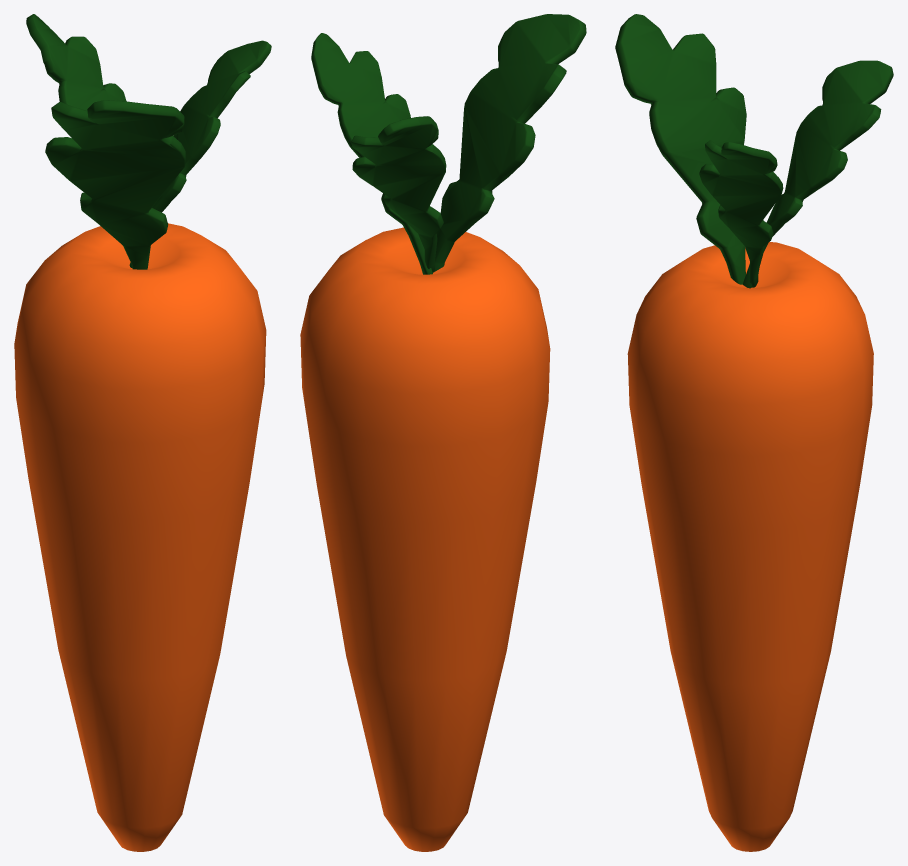
Rendered from carrot.fbx.
The picture shows the model from 3 angles, left to right: view 1: azimuth 30°, elevation 25°; view 2: azimuth 150°, elevation 25°; view 3: azimuth 270°, elevation 25°; orthographic projection. The views are drawn at different scales.
Visible parts, largest first — view 1: #carrot; view 2: #carrot; view 3: #carrot.
Part boxes in pixels (x1,y1,x2,y2): #carrot: [14, 14, 271, 851]; #carrot: [300, 14, 586, 851]; #carrot: [615, 14, 893, 851].
Bounding box in the file's own units: 69.96 × 234 × 74.63.
2 materials, 1 textured.
